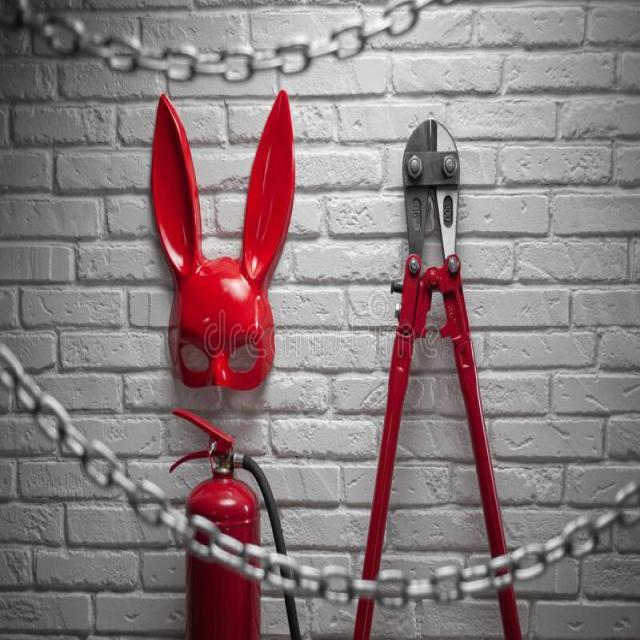fire_extinguisher: (167, 403, 312, 639)
